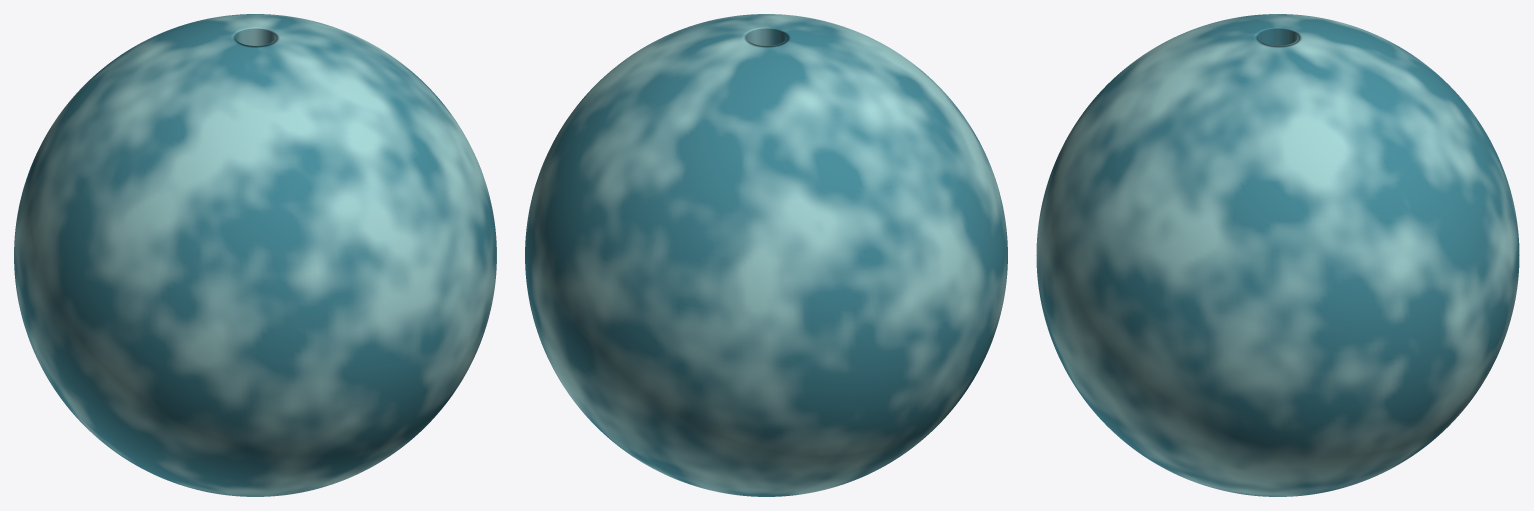
File: round-12mm.glb
3 renders of one model, left to right at view 1: azimuth 30°, elevation 25°; view 2: azimuth 150°, elevation 25°; view 3: azimuth 270°, elevation 25°, orthographic.
Parts seen in each view (by area): view 1: 圆珠; view 2: 圆珠; view 3: 圆珠.
Boxes of the visible parts, bbox=[...] form: 圆珠: bbox=[14, 14, 496, 496]; 圆珠: bbox=[525, 14, 1007, 496]; 圆珠: bbox=[1036, 14, 1519, 496].
Bounding box in the file's own units: 0.012 × 0.012 × 0.012.
